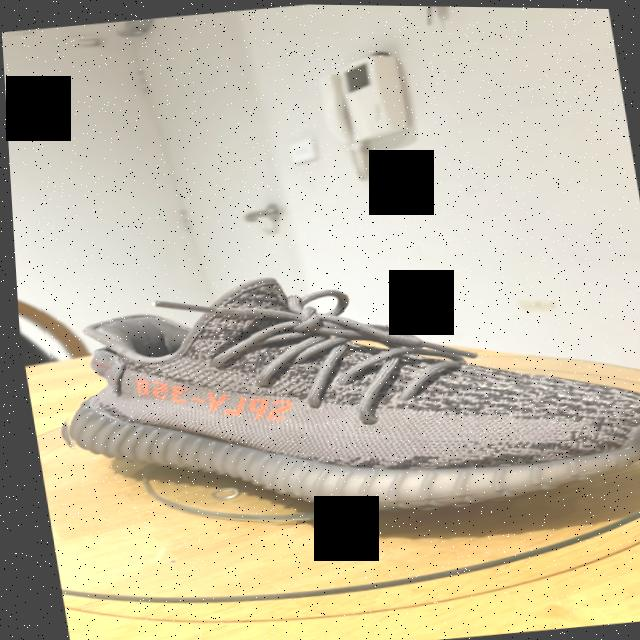shoe: (30, 234, 640, 549)
